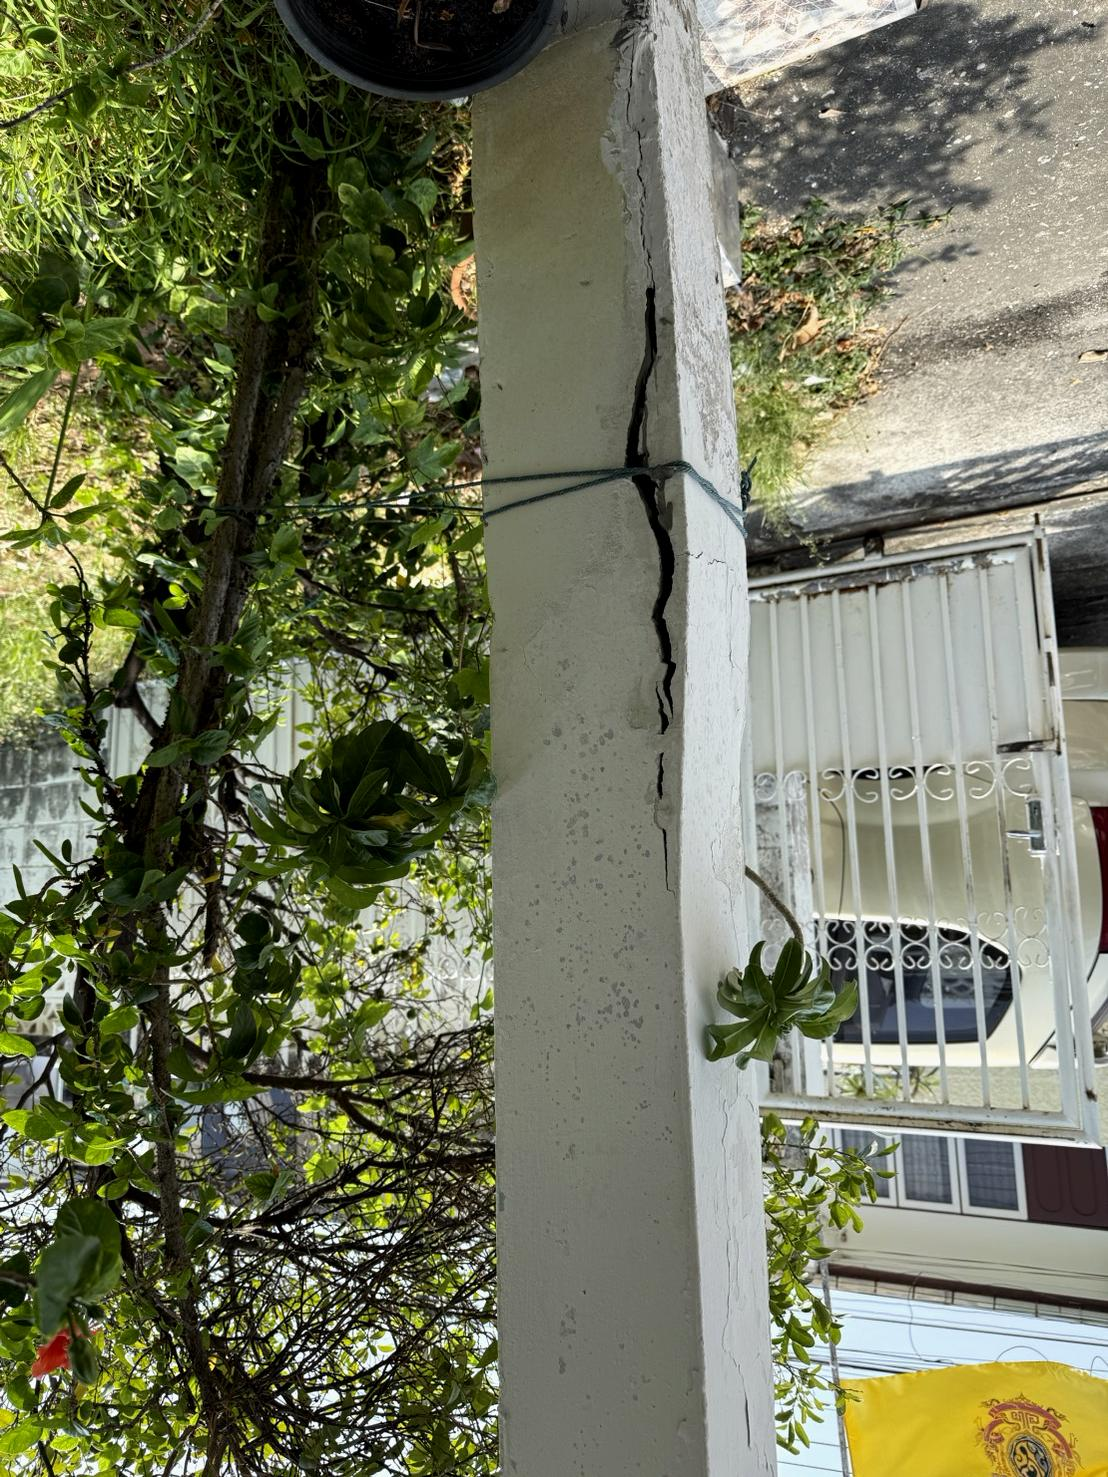High: (516, 20, 741, 915)
